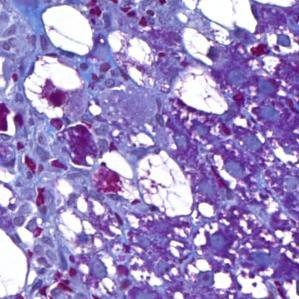ballooning: (21, 52, 85, 121), (137, 149, 196, 219), (172, 64, 230, 116)
